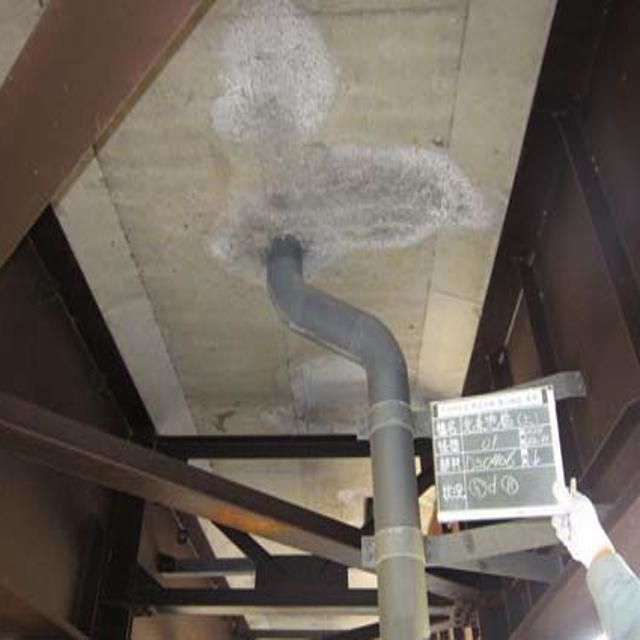freelime: (212, 10, 468, 284)
